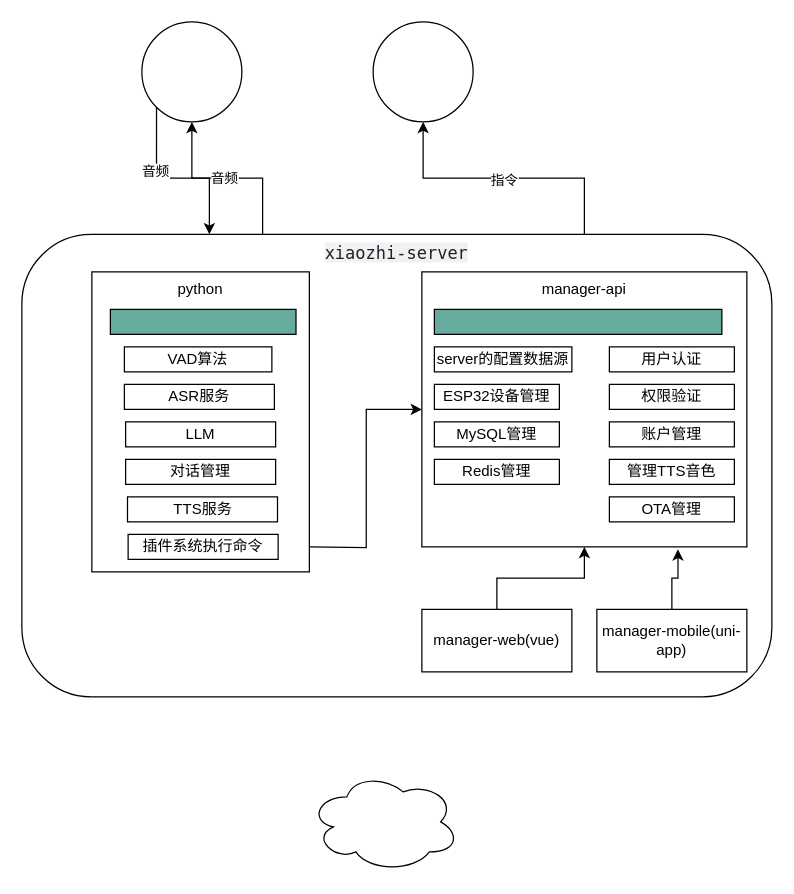
This 794x894 diagram has some shape labels left out. Here are the shapes that lost their labels. From the top down, the centre of each, then its label:
At point (191, 71): "ESP32 硬件".
At point (422, 71): "IoT".
At point (202, 321): "websocket网关".
At point (577, 321): "RESTful API".
At point (383, 821): "MCP server".
